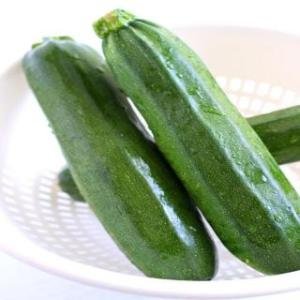zucchini: (25, 35, 139, 290)
